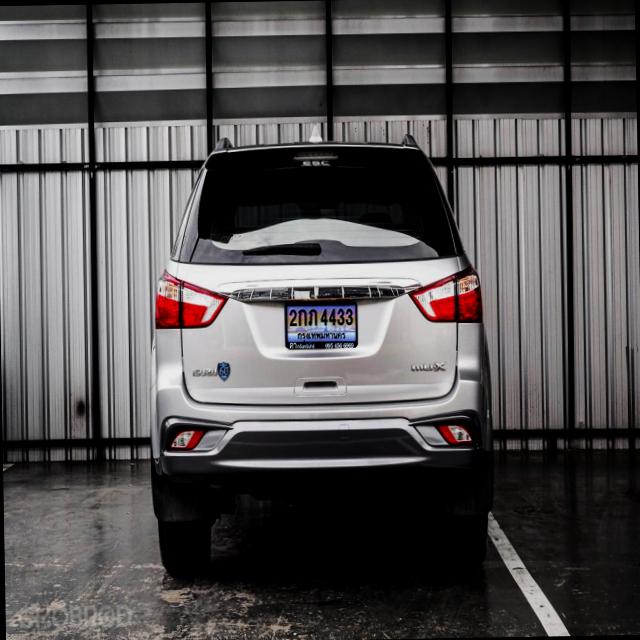license_plate: (280, 294, 364, 357)
